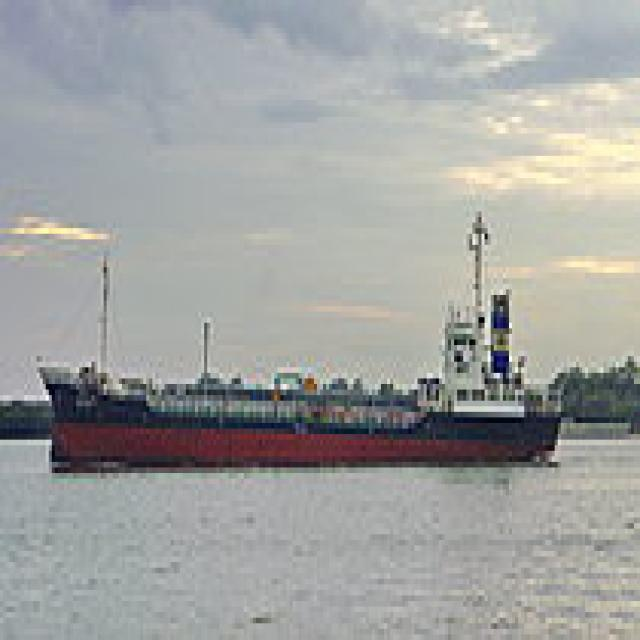Tanker: (27, 184, 564, 462)
